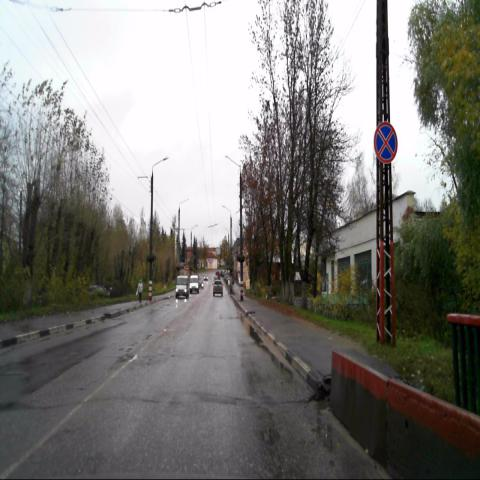3_27: (374, 122, 397, 163)
